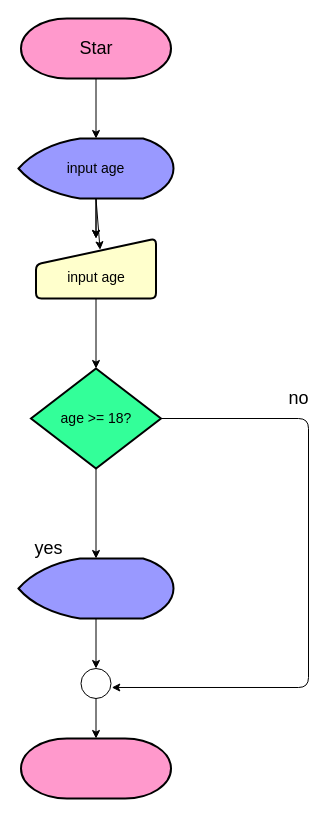
This 335x816 diagram has some shape labels left out. Each missing label, with the box of its shape:
"You are an adult": (17, 557, 174, 619)
End: (20, 737, 172, 799)
